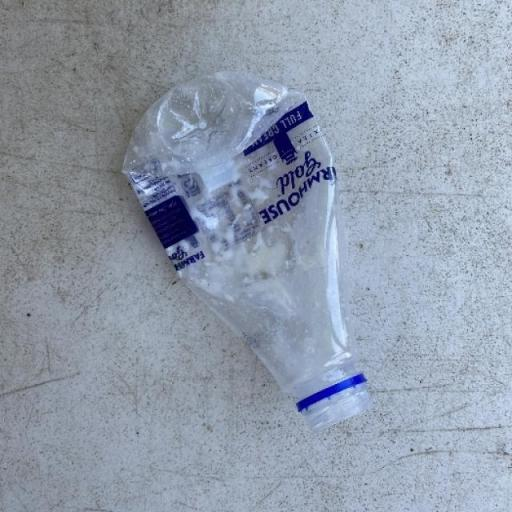plastic: (120, 68, 372, 431)
